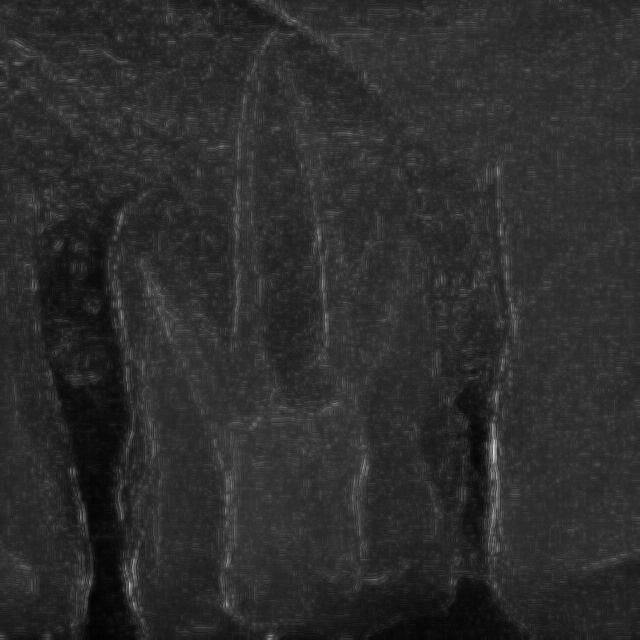Class 0- No endodontic treatment: (42, 8, 533, 640)
